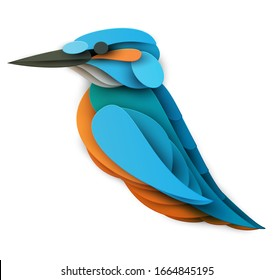bird: (1, 16, 267, 241)
